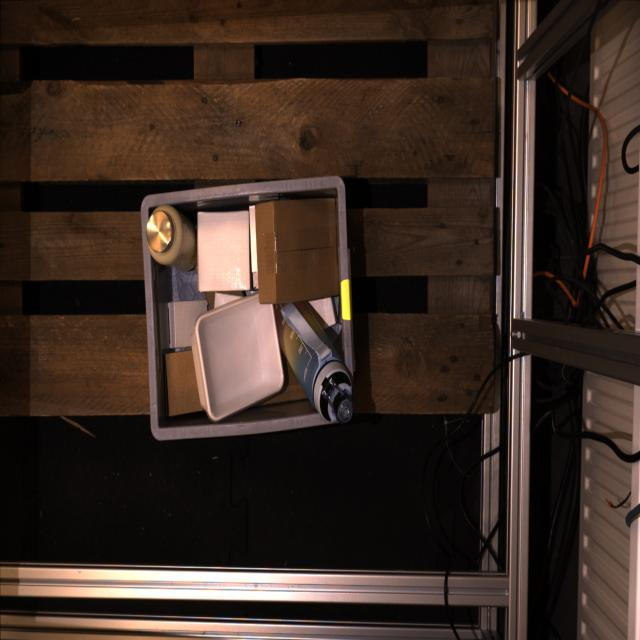Bottle: (274, 303, 353, 422), (146, 204, 197, 272)
CardboardBox: (256, 199, 339, 303), (198, 211, 251, 292), (165, 349, 202, 416), (167, 300, 207, 348), (264, 361, 305, 403), (310, 298, 335, 325), (249, 206, 257, 273), (213, 292, 242, 308), (204, 291, 216, 309), (220, 291, 245, 296), (252, 270, 258, 290)
PlasticContainer: (190, 293, 284, 423)
